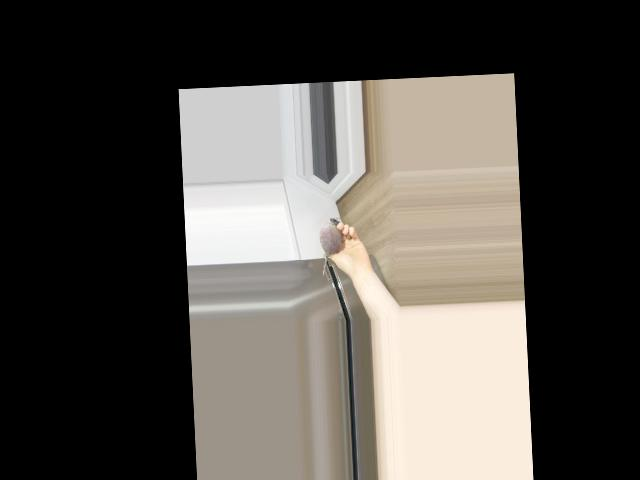beet: (318, 216, 344, 274)
